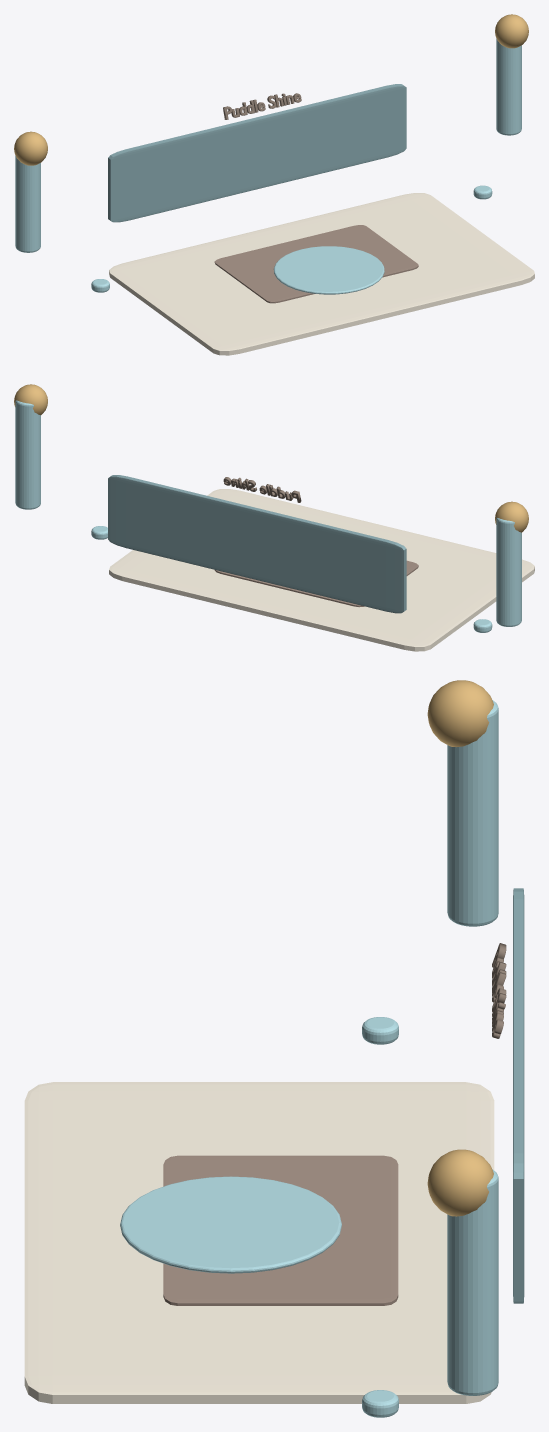
File: 13_water.glb
3 views of the same model, one above another, from view 1: azimuth 30°, elevation 25°; view 2: azimuth 150°, elevation 25°; view 3: azimuth 270°, elevation 25° (orthographic). The views are drawn at different scales.
Parts seen in each view (by area): view 1: PaperFloor-col, BackCard, StageMat, PuddleShine, PaperLantern, PaperLantern.001, LanternGlow, LanternGlow.001, TitleLabel; view 2: BackCard, PaperFloor-col, PaperLantern.001, PaperLantern, TitleLabel, LanternGlow, LanternGlow.001, StageMat; view 3: PaperFloor-col, StageMat, PuddleShine, PaperLantern, PaperLantern.001, BackCard, LanternGlow.001, LanternGlow, TitleLabel, CardConfetti, CardConfetti.001.
Part boxes in pixels (x1,y1,x2,y2): PaperFloor-col: (109,193,534,355); BackCard: (108,84,406,222); StageMat: (214,225,418,303); PuddleShine: (273,246,384,294); PaperLantern: (15,155,40,252); PaperLantern.001: (496,38,521,135); LanternGlow: (14,131,47,165); LanternGlow.001: (495,14,528,48); TitleLabel: (223,93,301,119); BackCard: (108,475,406,613); PaperFloor-col: (109,489,534,651); PaperLantern.001: (15,400,40,509); PaperLantern: (496,518,521,626); TitleLabel: (223,477,301,502); LanternGlow: (495,501,528,532); LanternGlow.001: (14,384,47,415); StageMat: (214,560,418,607); PaperFloor-col: (24,1082,494,1403); StageMat: (163,1155,398,1305); PuddleShine: (120,1176,341,1273); PaperLantern: (447,700,498,926); PaperLantern.001: (447,1169,498,1395); BackCard: (513,888,524,1303); LanternGlow.001: (427,1149,493,1216); LanternGlow: (427,680,493,747); TitleLabel: (492,943,506,1038); CardConfetti: (362,1017,398,1044); CardConfetti.001: (362,1390,398,1417).
Size of the model in its own units: 8.28 by 2.56 by 3.51.
